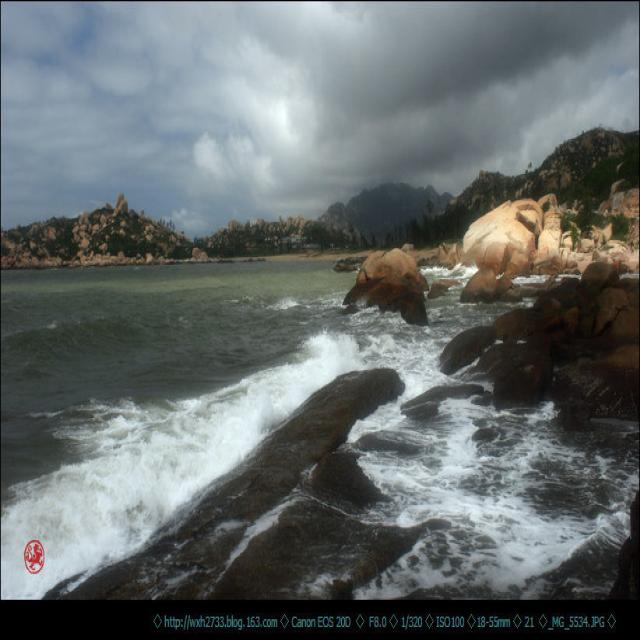reef: (338, 250, 624, 437)
